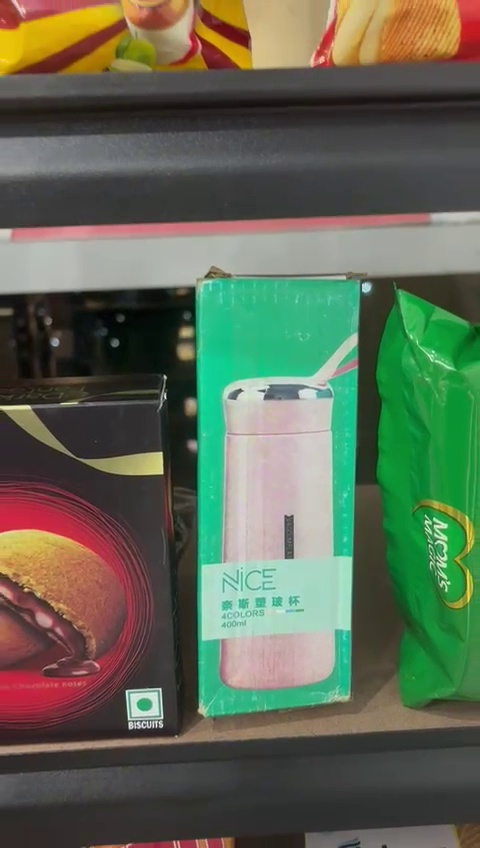Bottle: (193, 275, 359, 721)
